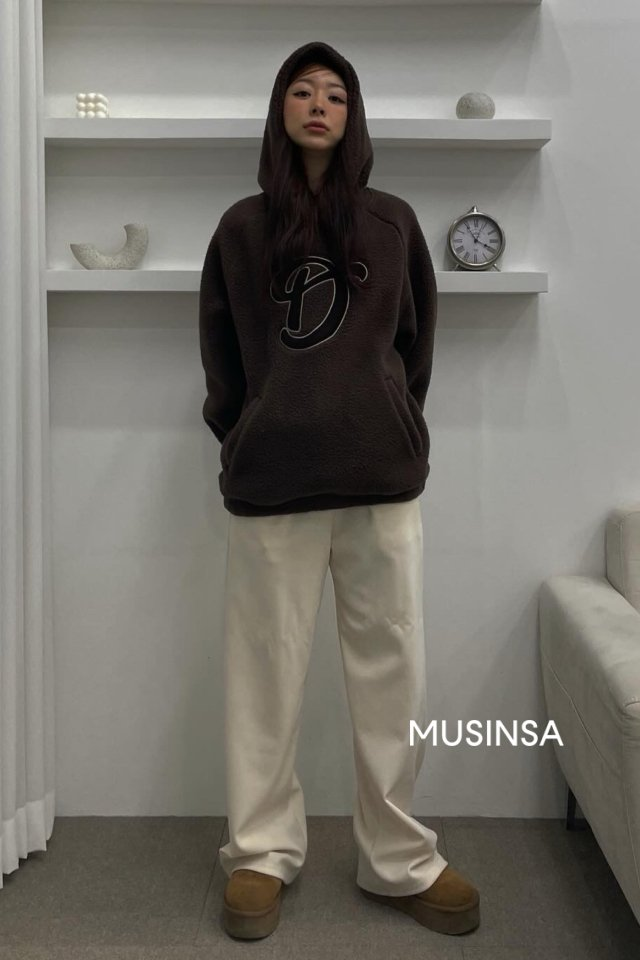Hoodie: (193, 24, 458, 513)
Pants: (224, 500, 460, 891)
Shoes: (224, 855, 497, 953)
